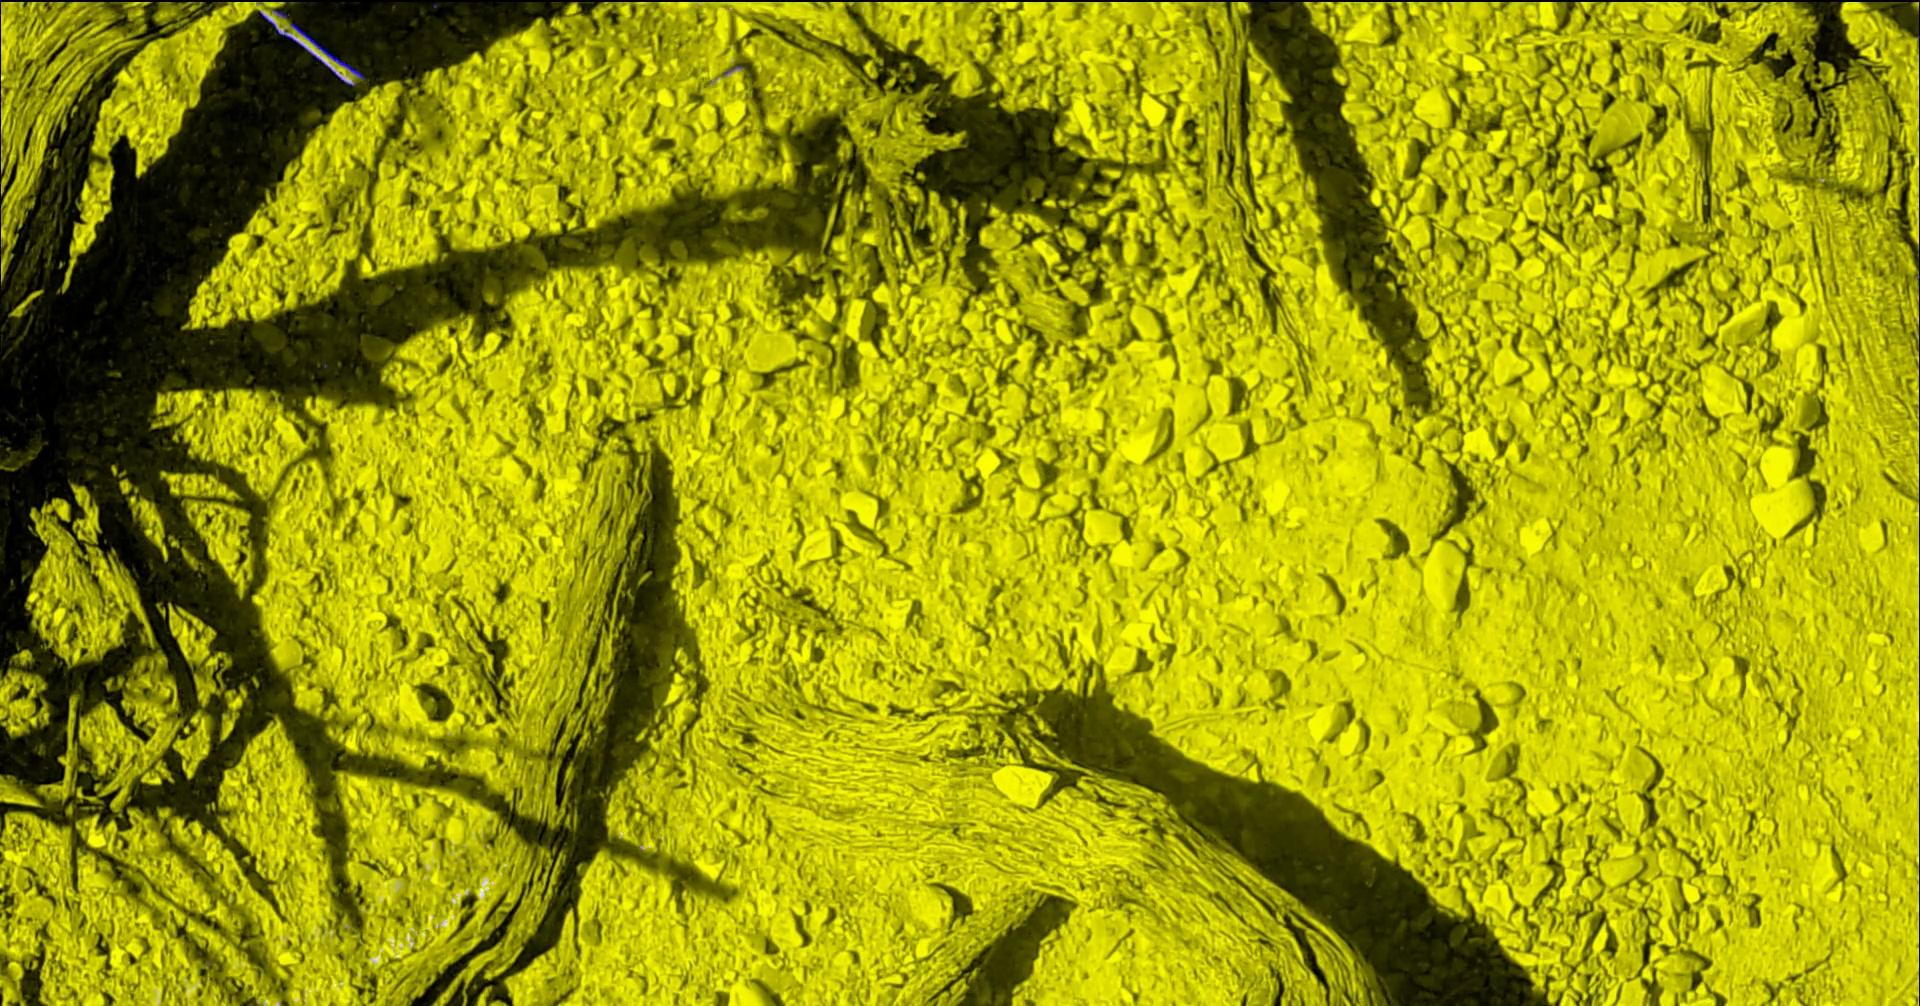ant: (259, 11, 354, 86), (290, 23, 364, 79)
